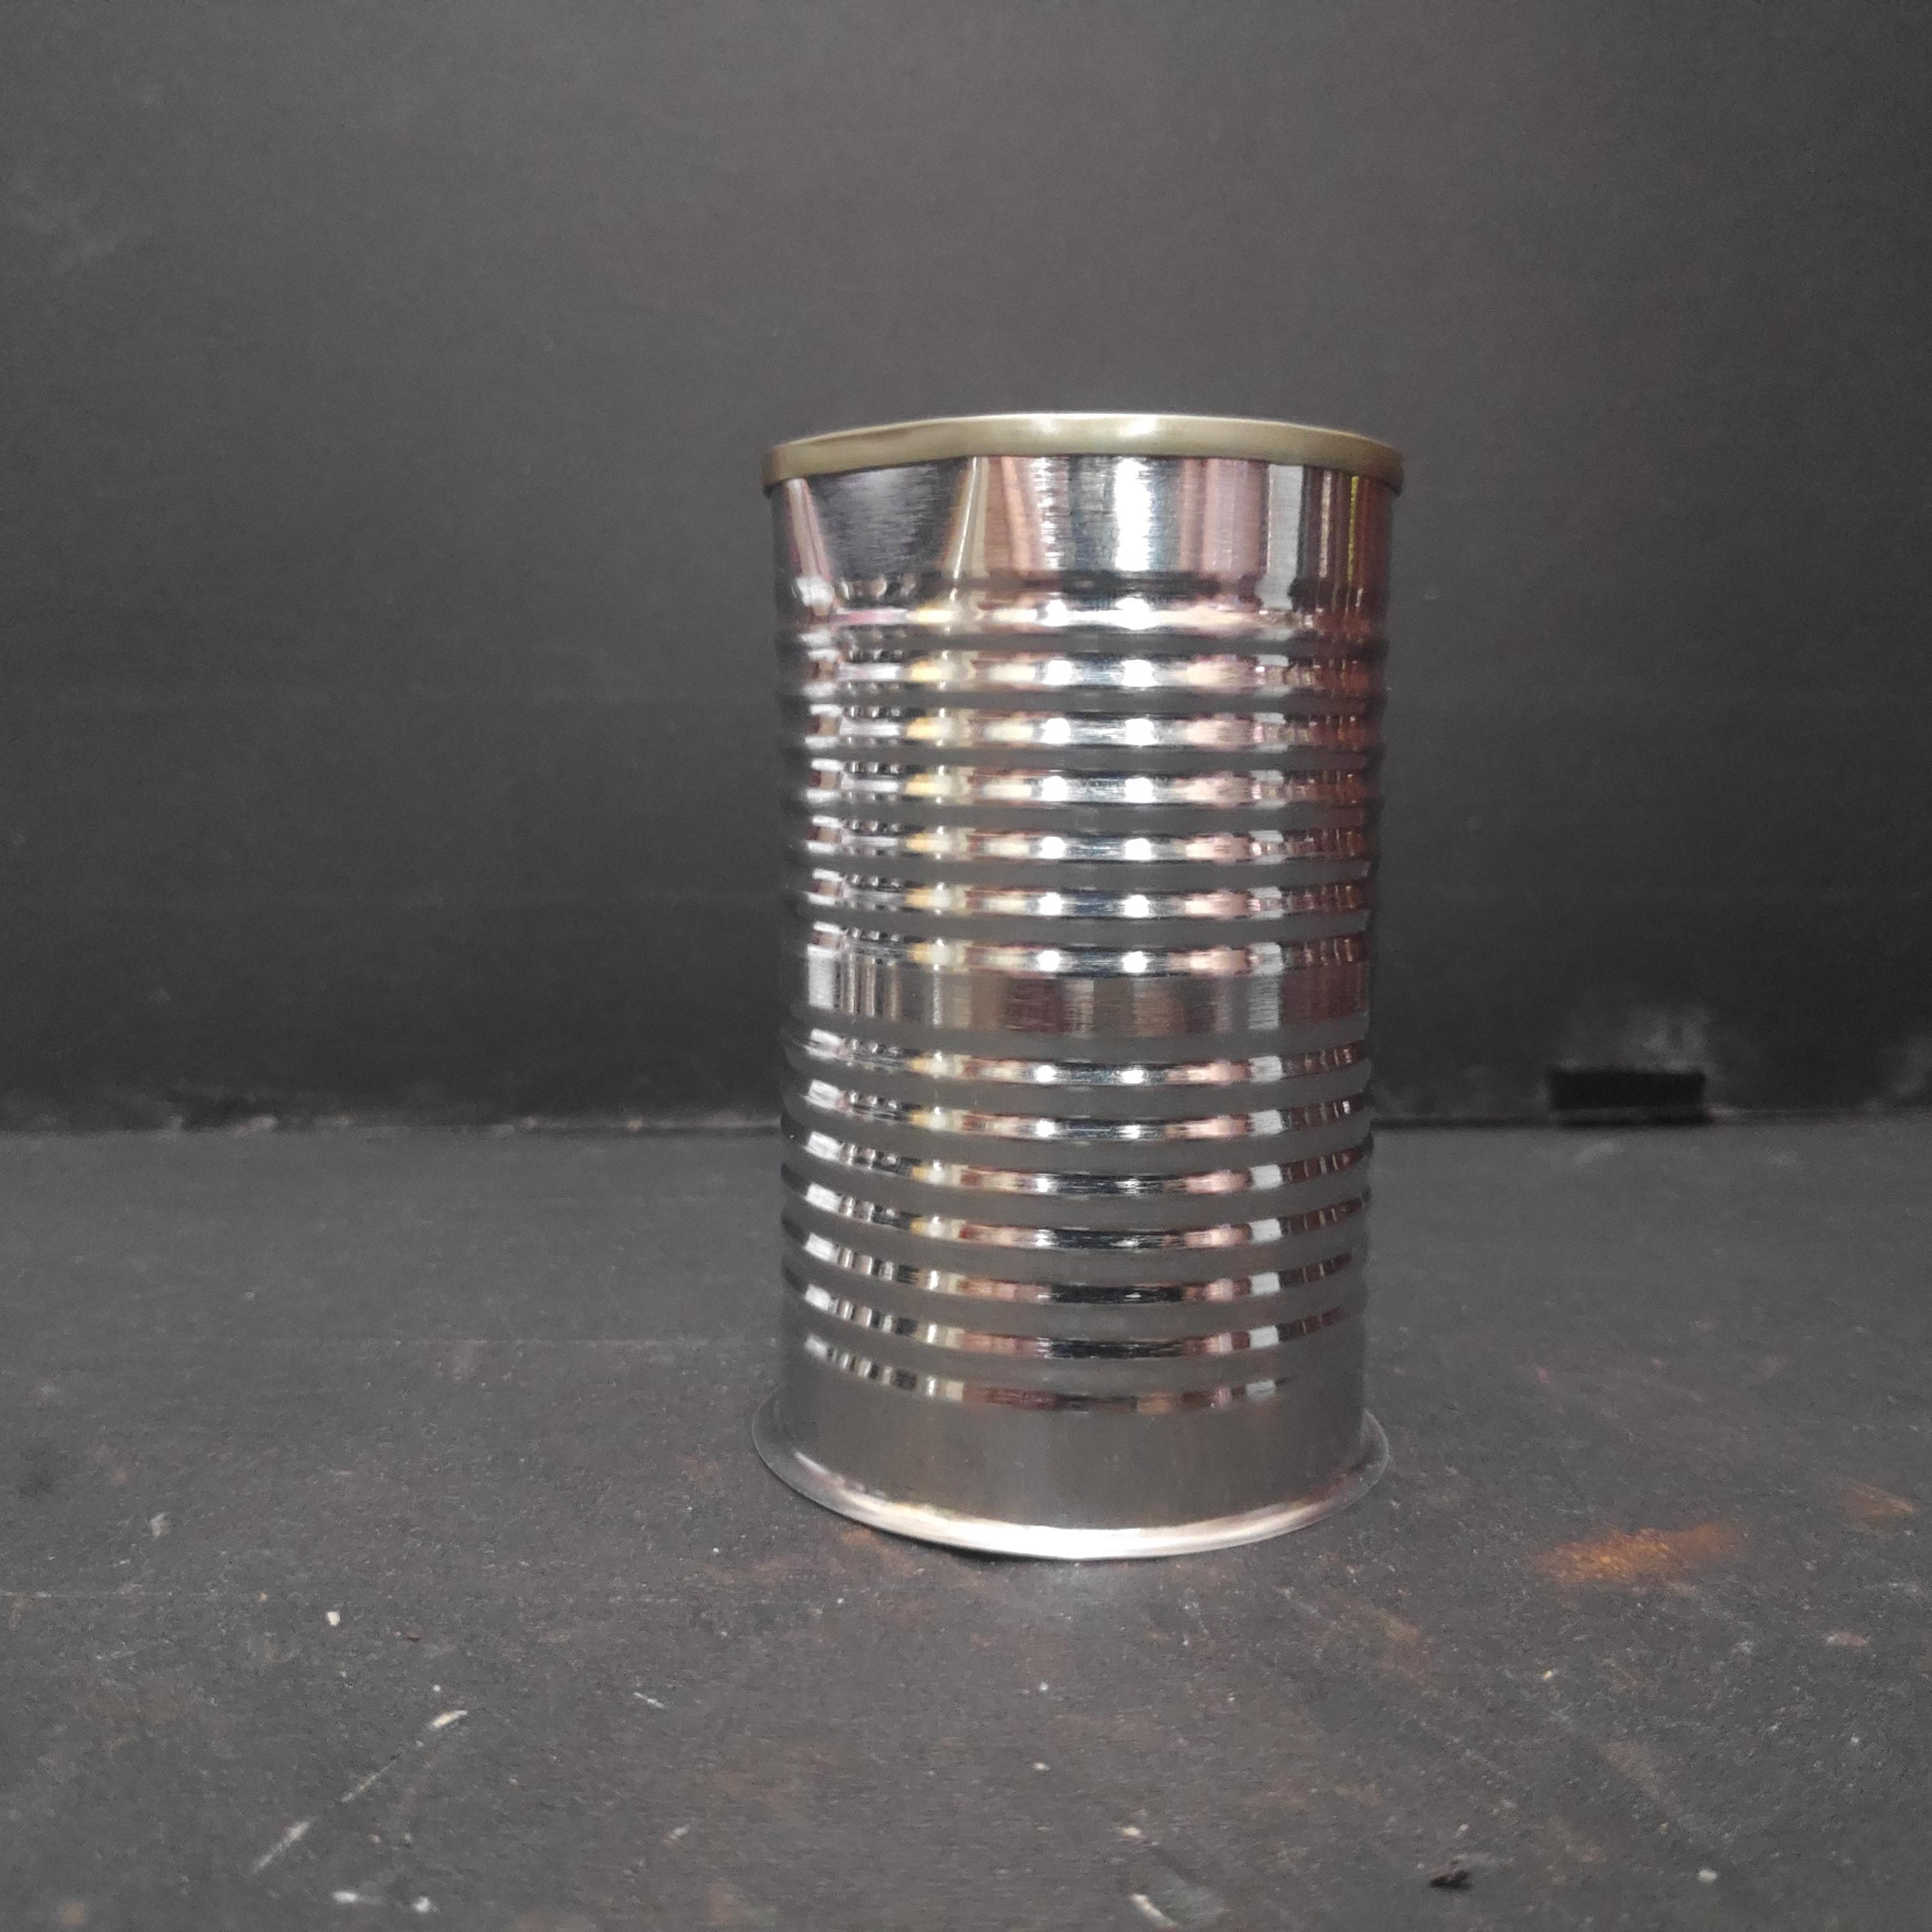Minor Defect: (755, 396, 1408, 1568)
